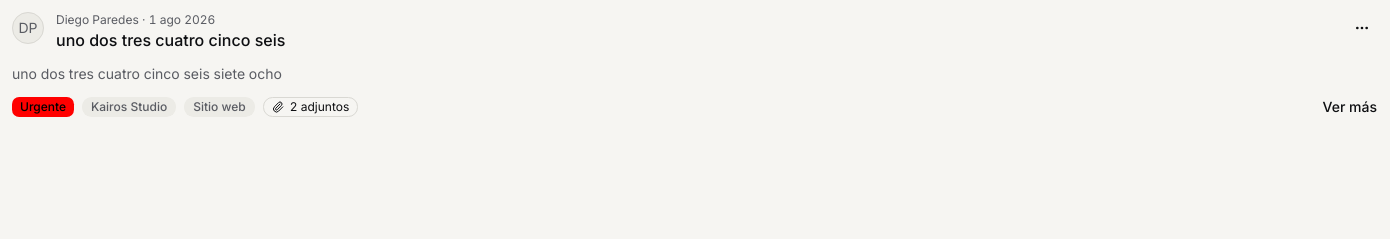
NoteCard › expands to the rich-text preview and the attachment chips, and collapses again
This screenshot has width=1390, height=239.
Click the button "Ver más" at [1350, 107], box [1322, 96, 1378, 118]
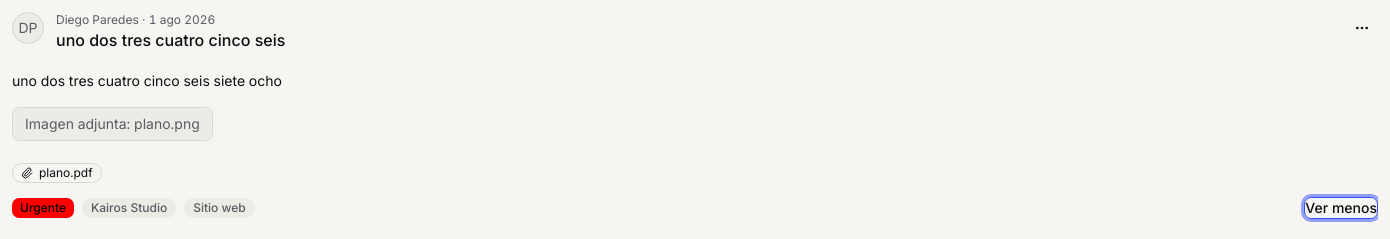
Check: the text "Imagen adjunta: plano.png" is shown, box [12, 107, 213, 141]
Check: the text "plano.pdf" is shown, box [39, 165, 93, 181]
Click the button "Ver menos" at [1341, 208], box [1304, 197, 1378, 219]
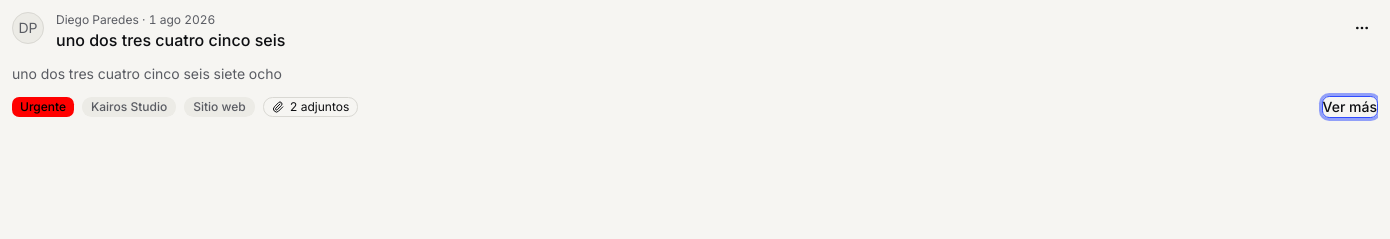
Check: the text "Imagen adjunta: plano.png" is gone
